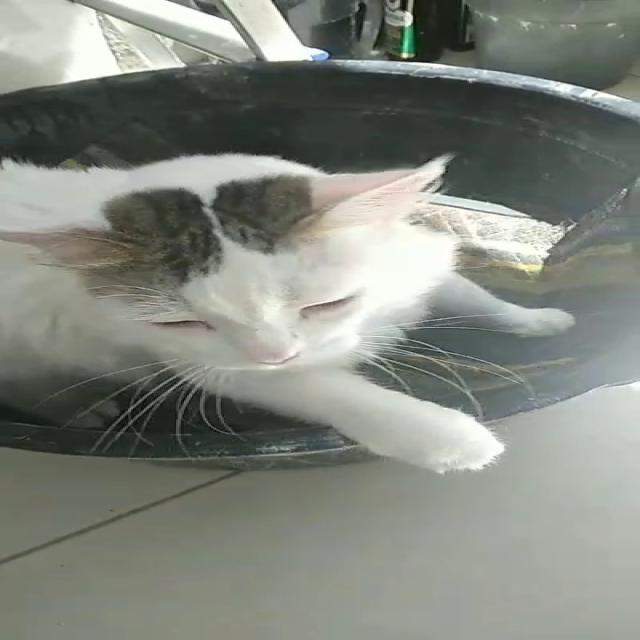Simba: (30, 137, 589, 490)
